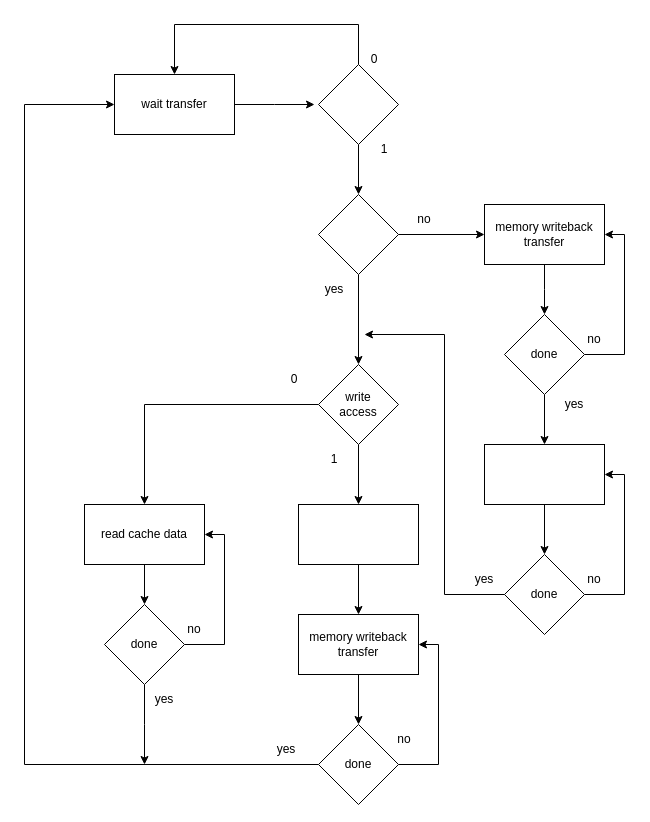
Image size: 650x822. Some labels were removed from this diagram. Here are the shapes that lost their labels. From the top down, the centre of each, then its label:
At (358,104): "enable".
At (358,234): "page loaded".
At (544,474): "memory read transfer".
At (358,534): "write cache data".
